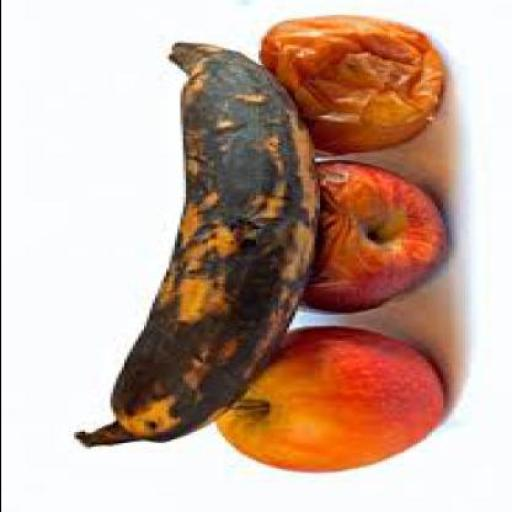biodegradable: (70, 44, 310, 450), (210, 326, 445, 474), (255, 18, 444, 160), (290, 162, 450, 317)
